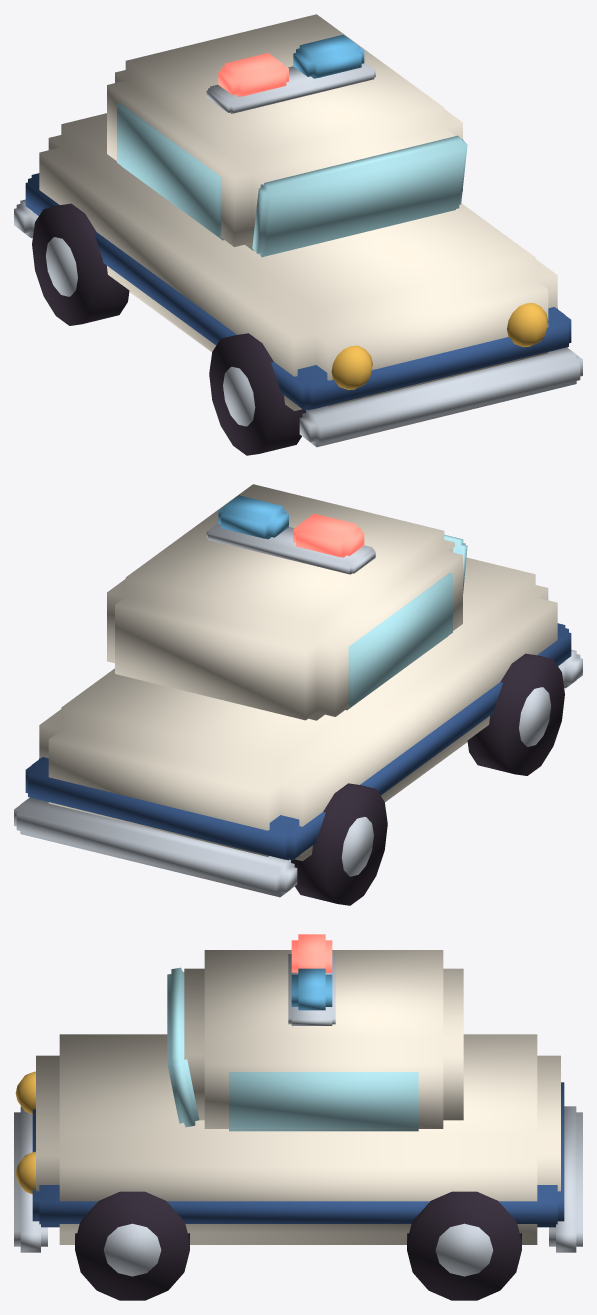
File: PolicePatrolCar.fbx
The picture shows the model from 3 angles, top to bottom: view 1: azimuth 30°, elevation 25°; view 2: azimuth 150°, elevation 25°; view 3: azimuth 270°, elevation 25°; orthographic projection. The views are drawn at different scales.
Parts seen in each view (by area): view 1: PolicePatrolCar; view 2: PolicePatrolCar; view 3: PolicePatrolCar.
Part boxes in pixels (left/top/right/bottom): PolicePatrolCar: left=14, top=14, right=582, bottom=455; PolicePatrolCar: left=14, top=484, right=582, bottom=905; PolicePatrolCar: left=14, top=934, right=582, bottom=1300.
Bounding box in the file's own units: 1.9 × 1.77 × 3.36.
